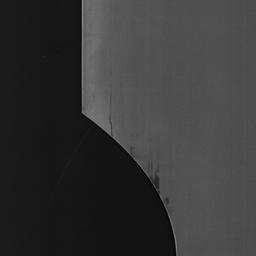Crescent gap: (81, 104, 176, 256)
